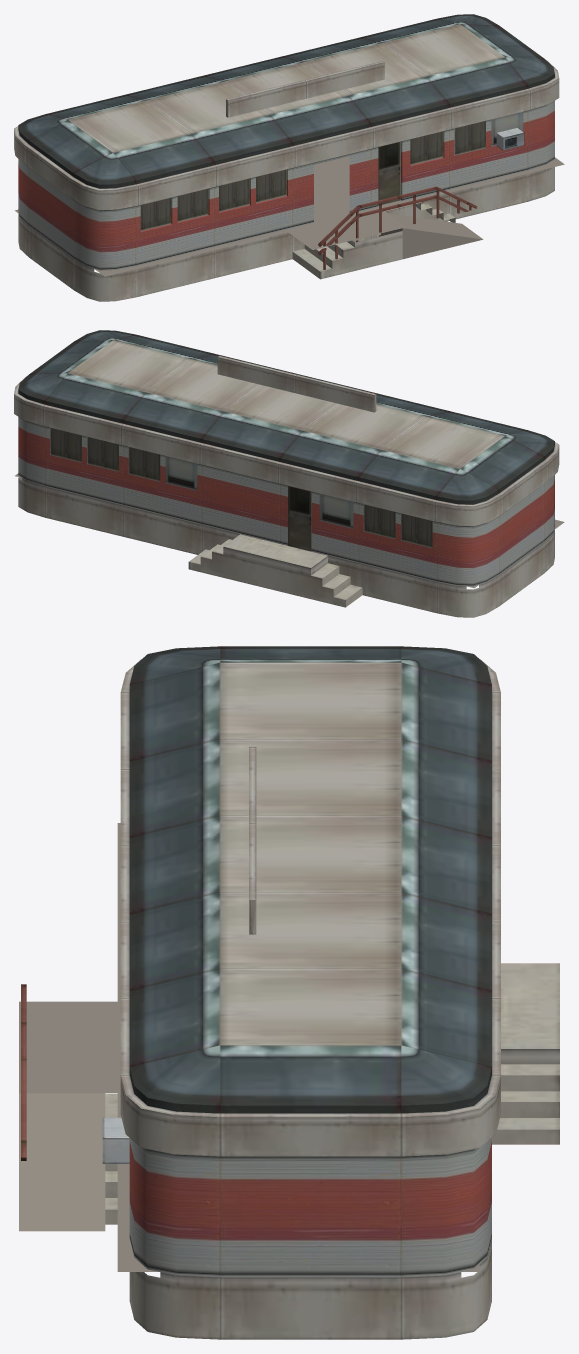
File: rural-diner.access-v2.lod1.glb
3 views of the same model, one above another, from view 1: azimuth 30°, elevation 25°; view 2: azimuth 150°, elevation 25°; view 3: azimuth 270°, elevation 25° (orthographic). The views are drawn at different scales.
Parts seen in each view (by area): view 1: Rural_Diner_1_Rural_Facade_FLR_2_0, Rural_Diner_1_Rural_Trailer_Stuff_1_0, Walkable floors and stairs; view 2: Rural_Diner_1_Rural_Facade_FLR_2_0, Rural_Diner_1_Rural_Trailer_Stuff_1_0; view 3: Rural_Diner_1_Rural_Facade_FLR_2_0, Rural_Diner_1_Rural_Trailer_Stuff_1_0, Walkable floors and stairs.
Boxes of the visible parts, box(x1,y1,x2,y2) form: Rural_Diner_1_Rural_Facade_FLR_2_0: box(14, 14, 559, 301); Rural_Diner_1_Rural_Trailer_Stuff_1_0: box(18, 101, 554, 270); Walkable floors and stairs: box(14, 156, 564, 276); Rural_Diner_1_Rural_Facade_FLR_2_0: box(14, 330, 559, 617); Rural_Diner_1_Rural_Trailer_Stuff_1_0: box(18, 417, 554, 586); Rural_Diner_1_Rural_Facade_FLR_2_0: box(21, 646, 559, 1339); Rural_Diner_1_Rural_Trailer_Stuff_1_0: box(129, 1138, 491, 1277); Walkable floors and stairs: box(19, 823, 479, 1271).
Bounding box in the file's own units: 18.3 × 5.31 × 8.96.
Materials: 3 (2 with a texture image).
